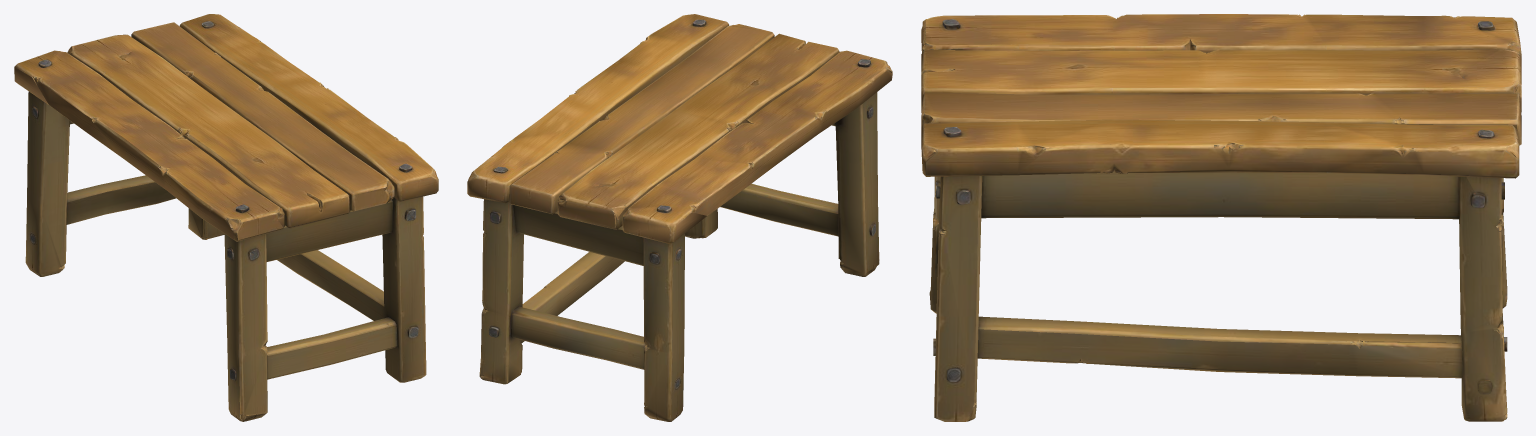
File: wooden-camp-table.glb
3 views of the same model, side by side, from view 1: azimuth 30°, elevation 25°; view 2: azimuth 150°, elevation 25°; view 3: azimuth 270°, elevation 25° (orthographic). The views are drawn at different scales.
Visible parts, largest first — view 1: tripo_node_5163ef7d-1c15-4680-90eb-862275c85067; view 2: tripo_node_5163ef7d-1c15-4680-90eb-862275c85067; view 3: tripo_node_5163ef7d-1c15-4680-90eb-862275c85067.
Part boxes in pixels (x1,y1,x2,y2): tripo_node_5163ef7d-1c15-4680-90eb-862275c85067: [14, 14, 438, 421]; tripo_node_5163ef7d-1c15-4680-90eb-862275c85067: [467, 14, 892, 421]; tripo_node_5163ef7d-1c15-4680-90eb-862275c85067: [921, 14, 1521, 421].
Bounding box in the file's own units: 0.5449 × 0.5176 × 0.998.
1 material, 1 textured.
